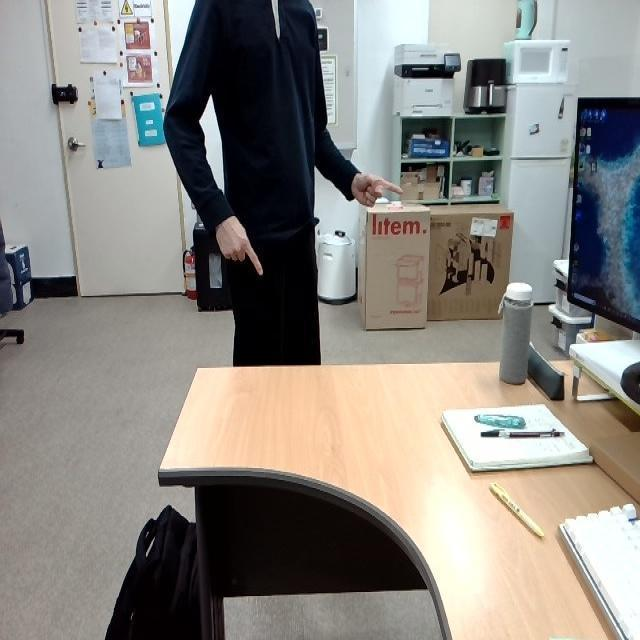bare_hand: (211, 208, 265, 278), (344, 163, 404, 214)
